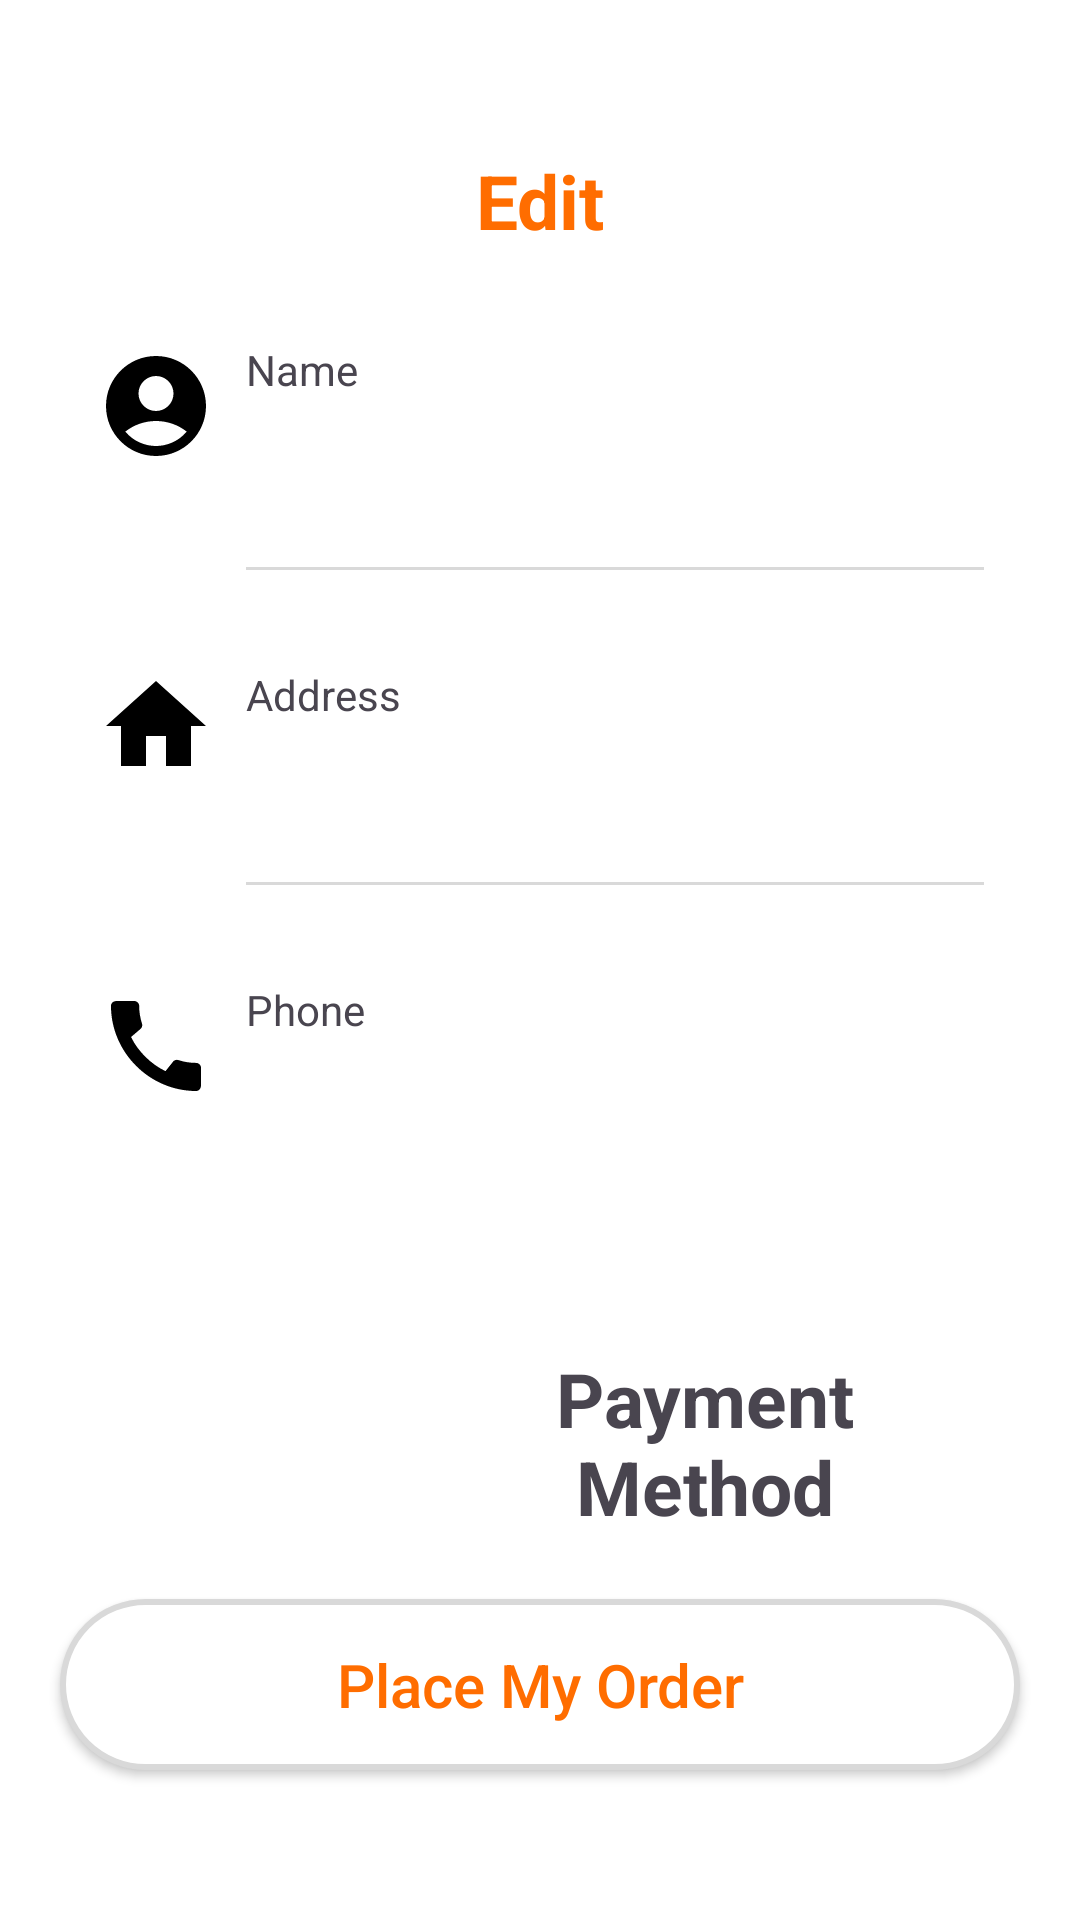

Where to tap for icons on this 1080 x 1920 app screen, as (x=x, y=y):
account: (x=156, y=406)
call: (x=156, y=1046)
home: (x=156, y=723)
